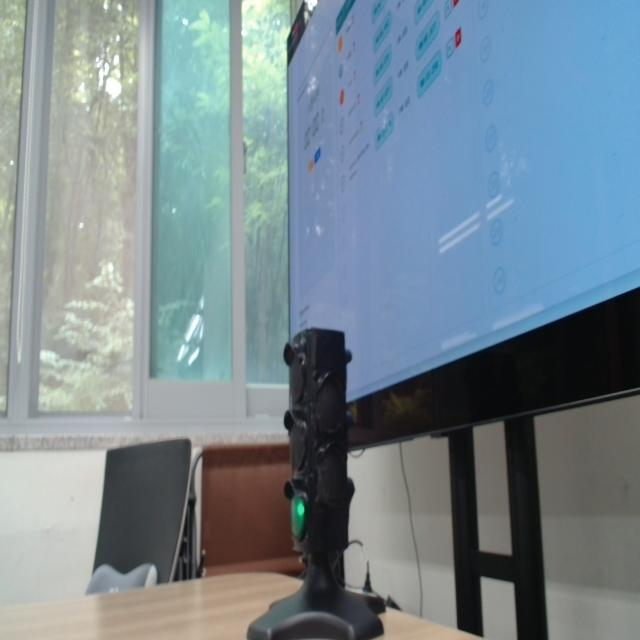green_light: (291, 496, 306, 539)
